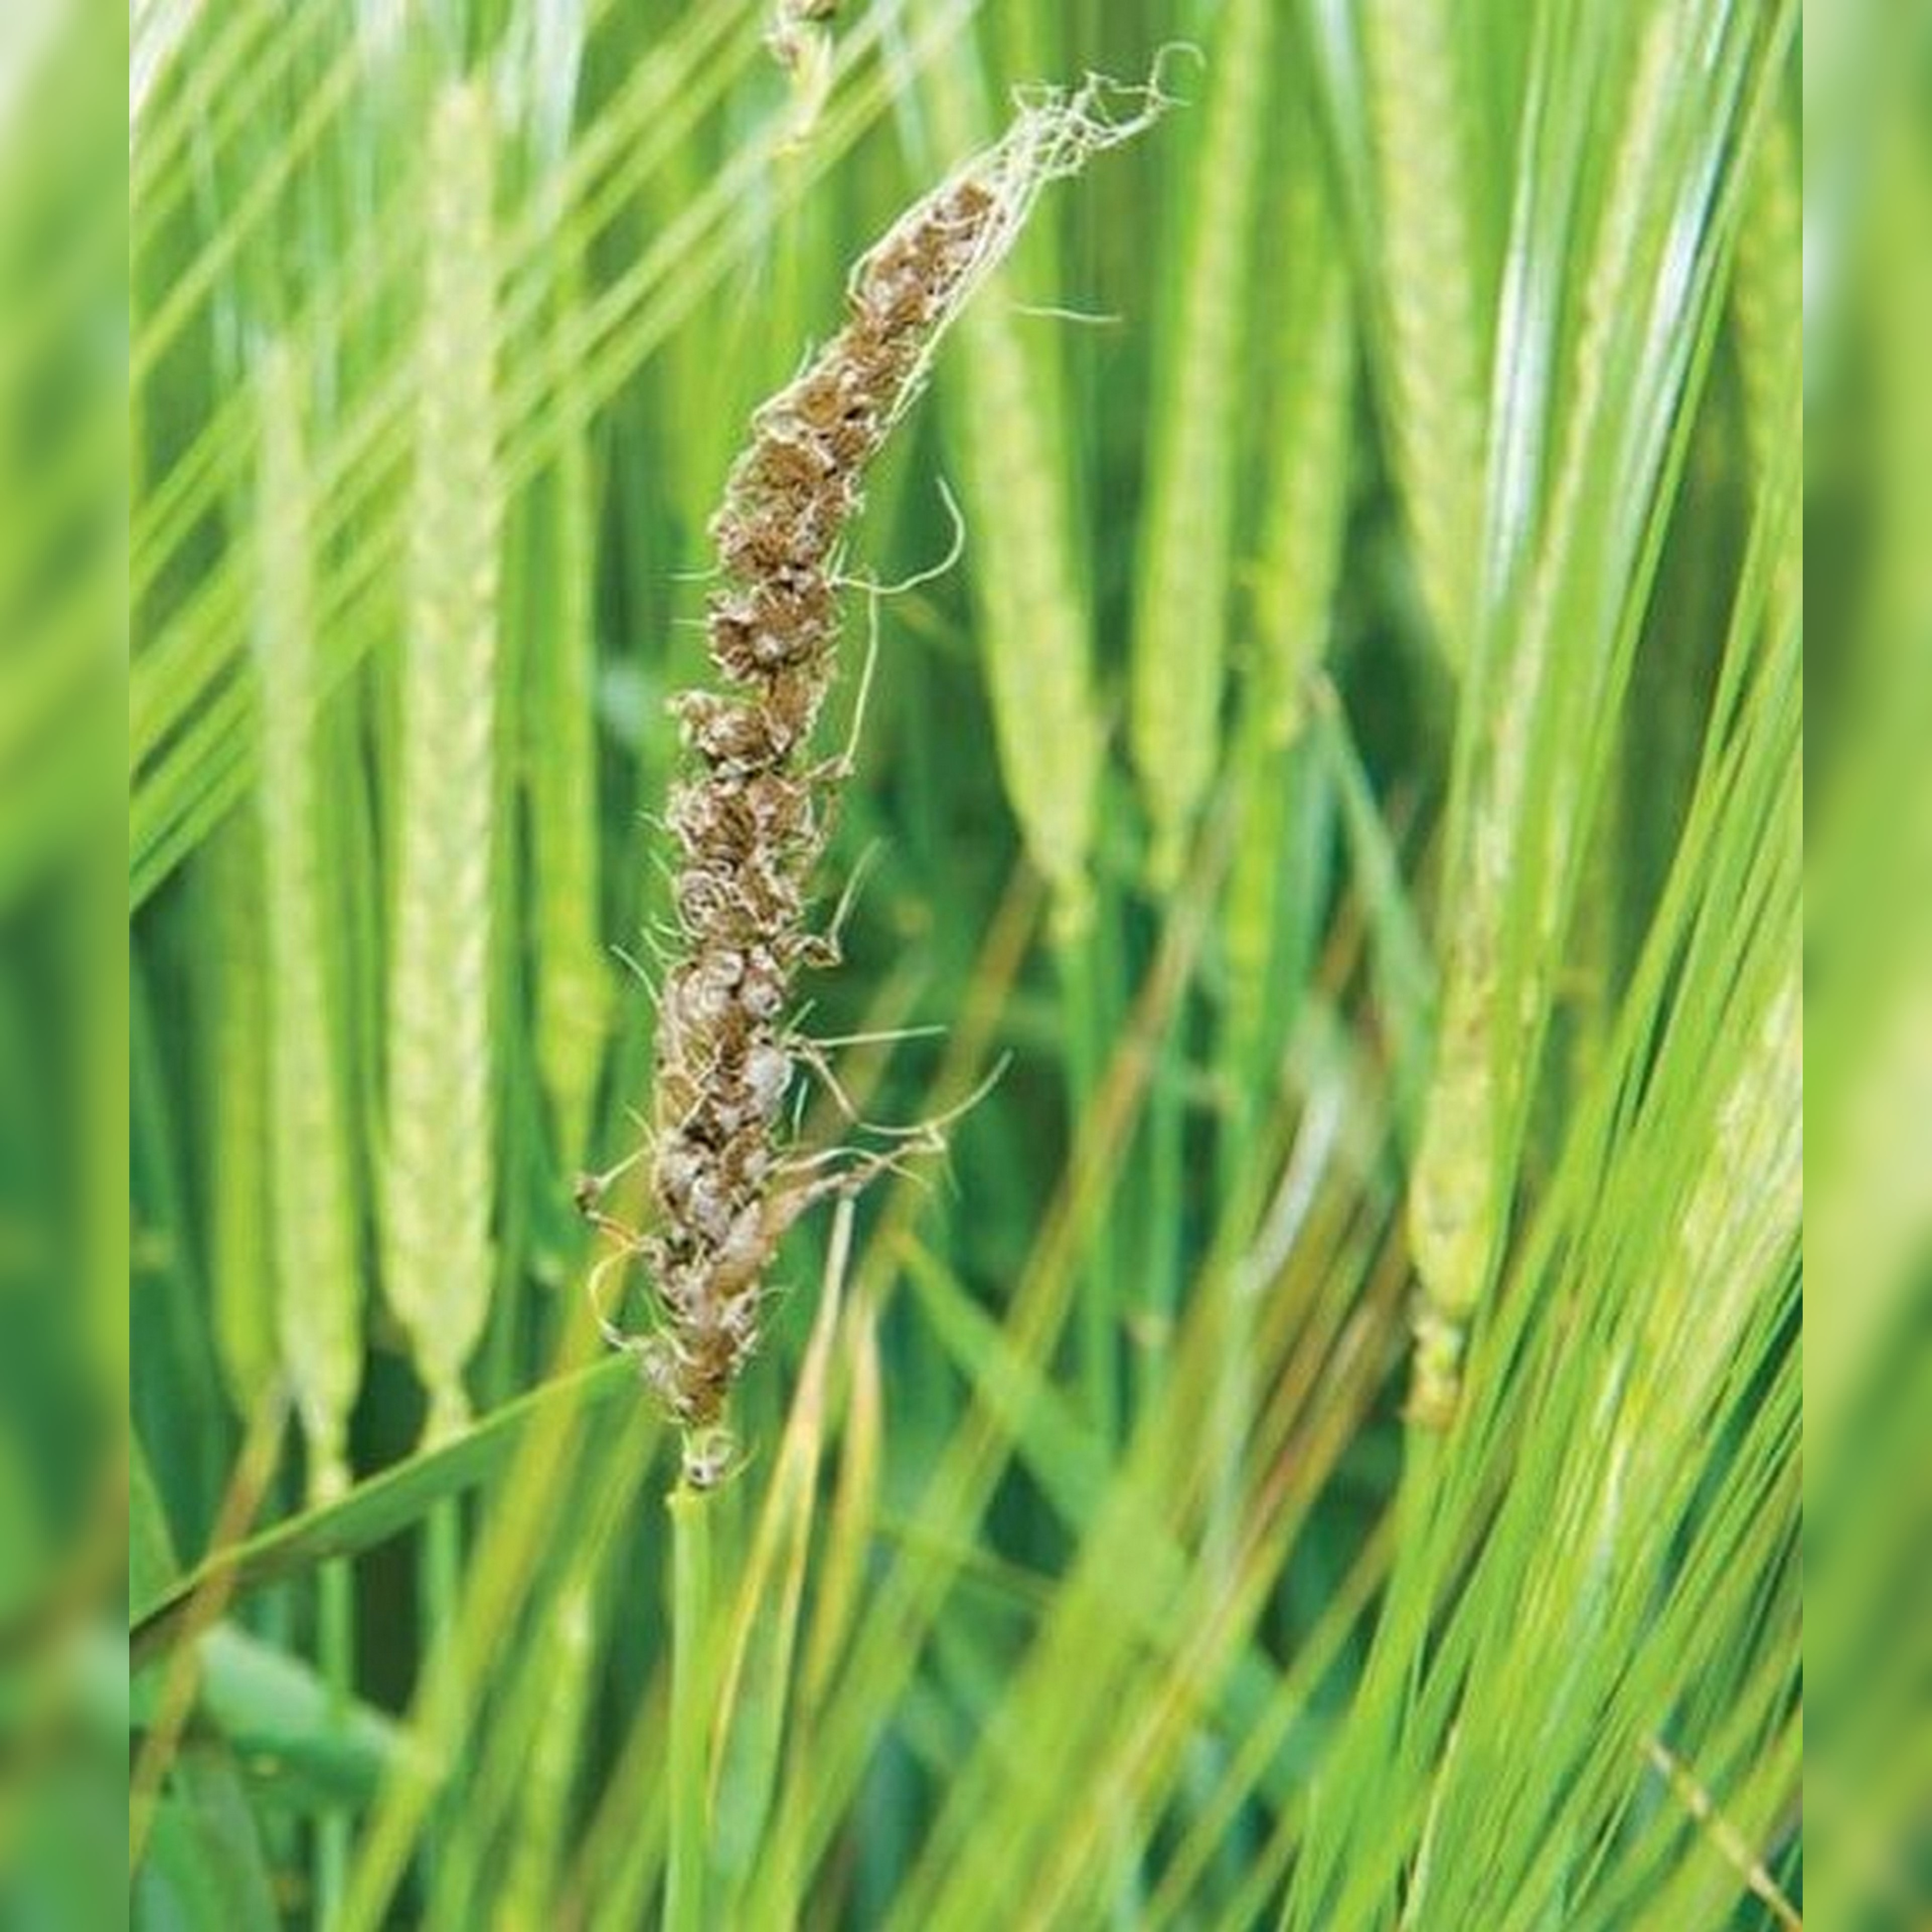Wheat Loose Smut: (589, 127, 1092, 1421)
